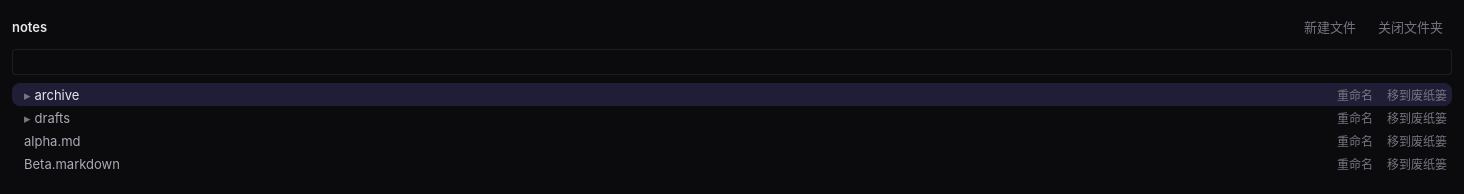
Test: FileSidebar › renames an entry through the inline name input
The image size is (1464, 194).
Step 1. Click the button "重命名" in the row of "alpha.md" → {"x": 1355, "y": 140}, box [1332,131,1378,150]
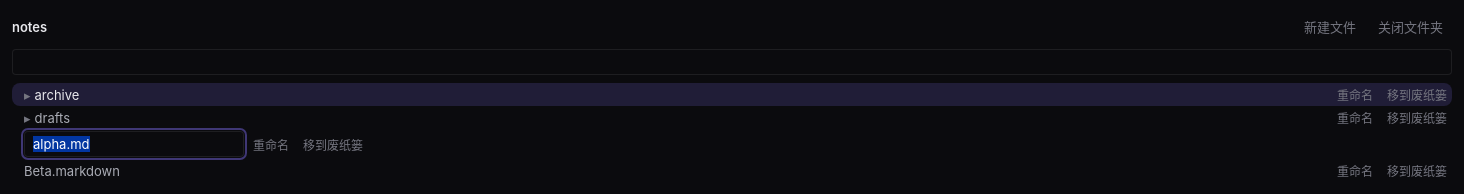
Step 2. Replace the text in the field named "文件名" with "renamed.md" → {"x": 134, "y": 144}, box [24,131,244,157]
Then press Enter
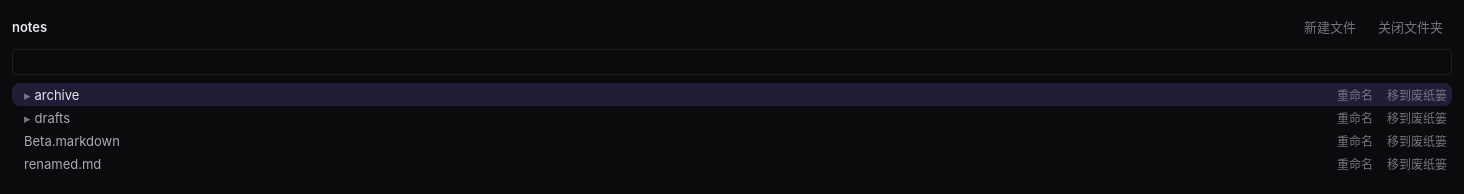
Expected: the text "alpha.md" is not shown
Now the list item "renamed.md" is shown, box [12,152,1452,175]
